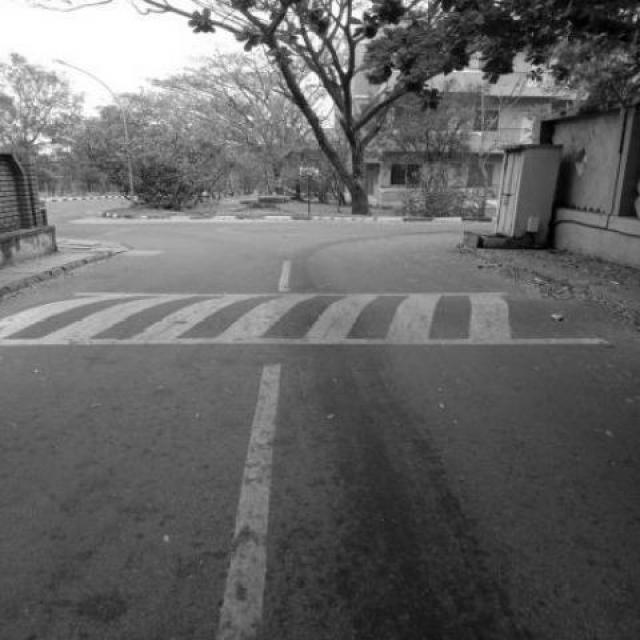Speed Bump: (1, 290, 636, 350)
